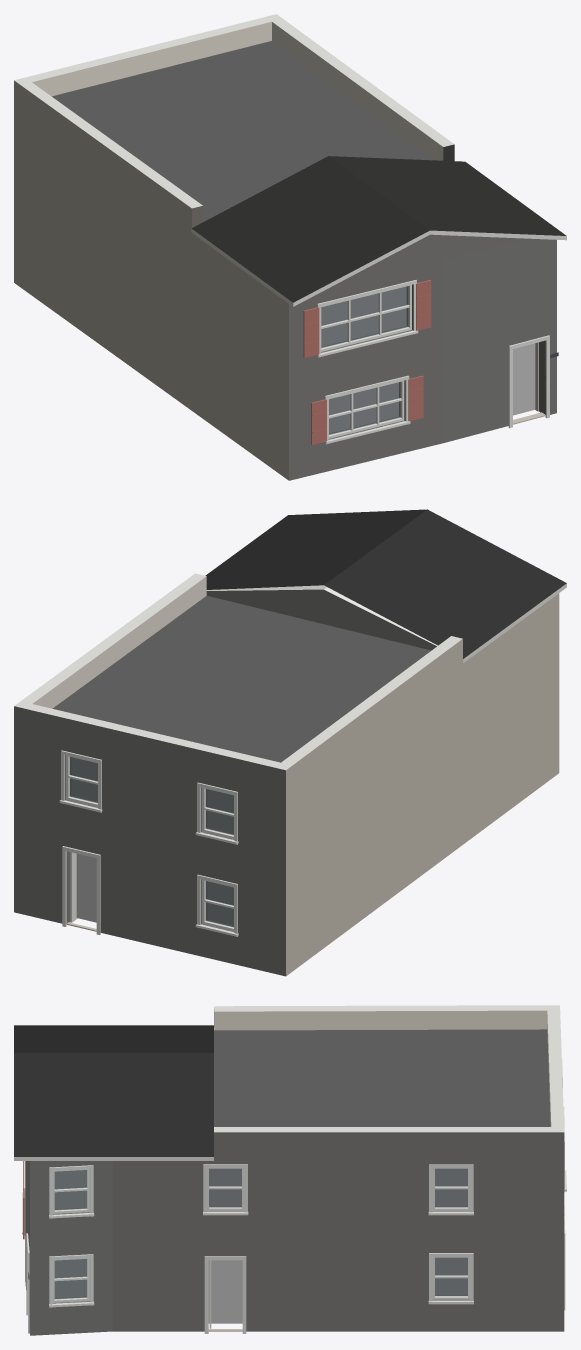
Rendered from exterior.glb.
3 renders of one model, top to bottom at view 1: azimuth 30°, elevation 25°; view 2: azimuth 150°, elevation 25°; view 3: azimuth 270°, elevation 25°, orthographic. The views are drawn at different scales.
Visible parts, largest first — view 1: shell, roof, shadow-proxy, trim, glazing, gable, frames; view 2: shell, roof, gable, shadow-proxy, trim, glazing, frames, doors; view 3: shell, roof, shadow-proxy, glazing, trim, frames.
Part boxes in pixels (x1,y1,x2,y2): shell: (14, 14, 556, 480); roof: (52, 41, 566, 306); shadow-proxy: (321, 287, 535, 432); trim: (303, 280, 558, 444); glazing: (321, 286, 408, 434); gable: (328, 234, 531, 288); frames: (321, 284, 411, 438); shell: (14, 573, 559, 976); roof: (52, 509, 566, 762); gable: (206, 589, 436, 650); shadow-proxy: (71, 757, 233, 925); trim: (59, 750, 238, 936); glazing: (70, 757, 233, 927); frames: (66, 755, 234, 931); doors: (66, 852, 96, 931); shell: (25, 1005, 564, 1335); roof: (14, 1025, 550, 1160); shadow-proxy: (55, 1169, 467, 1323); glazing: (54, 1168, 467, 1298); trim: (22, 1059, 566, 1333); frames: (52, 1168, 470, 1302).
Size of the model in its own units: 8.29 by 6.42 by 14.65.
